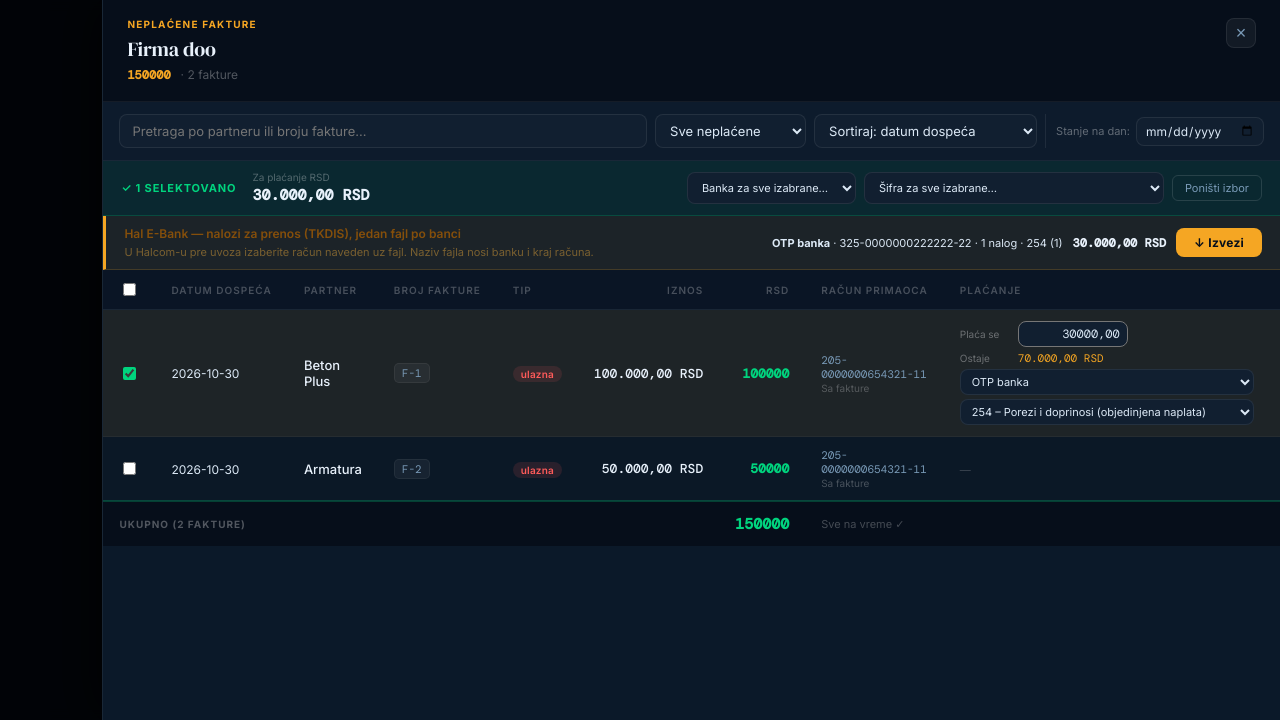
the unpaid-bills panel, extended › tells the client about each file, and shows its failure
The image size is (1280, 720).
Expected: the text "Beton Plus" is shown, [304,357,340,389]
Click the button "↓ Izvezi".
click(1219, 242)  # box [1176,228,1262,257]
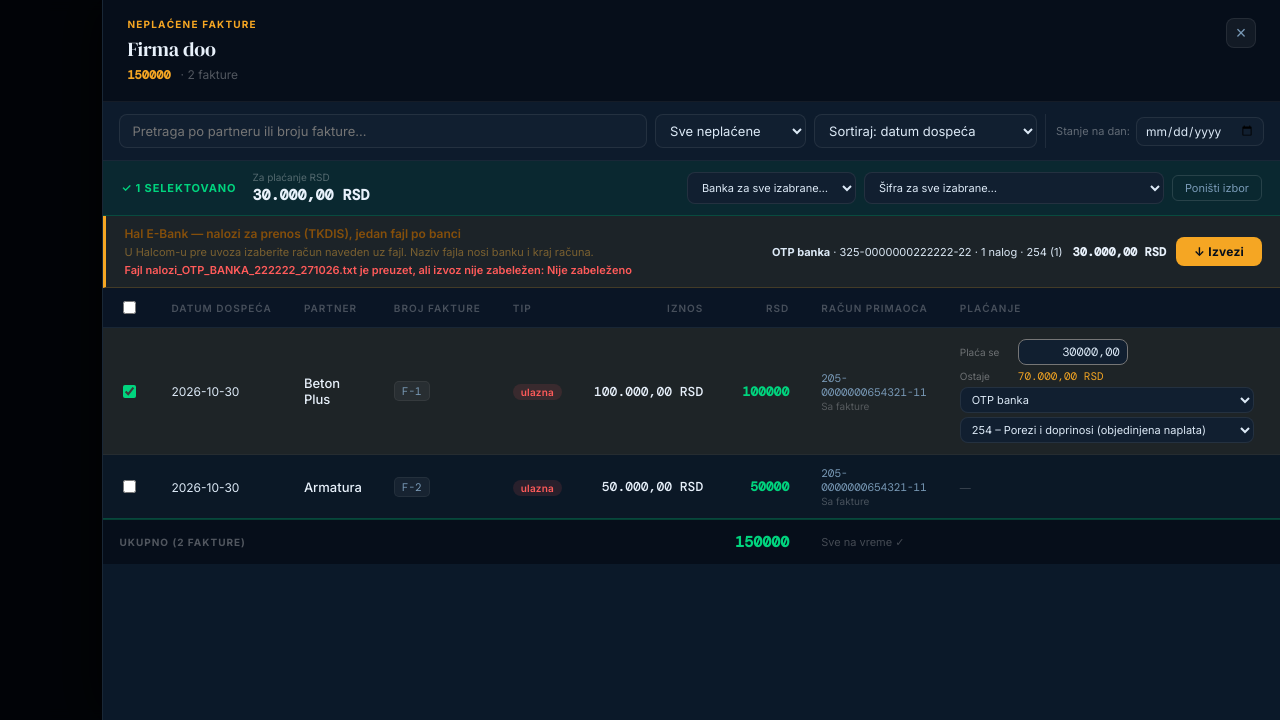
Expected: the text "Nije zabeleženo" is shown, [124,263,632,277]
